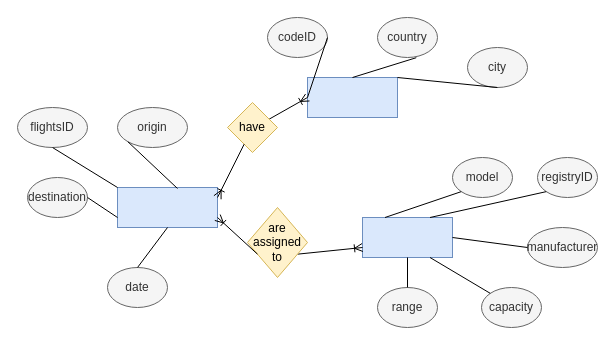
Some shapes in this 615 by 345 pixel diagram are drawn without their labels. Each missing label, with the centre of its shape:
"airports" goes at [352,97].
"flights" goes at [167,207].
"planes" goes at [407,237].
